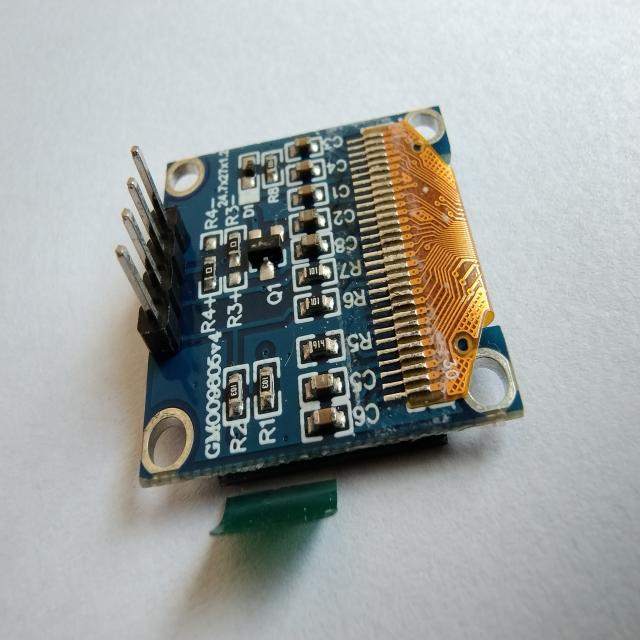oled: (105, 82, 534, 556)
